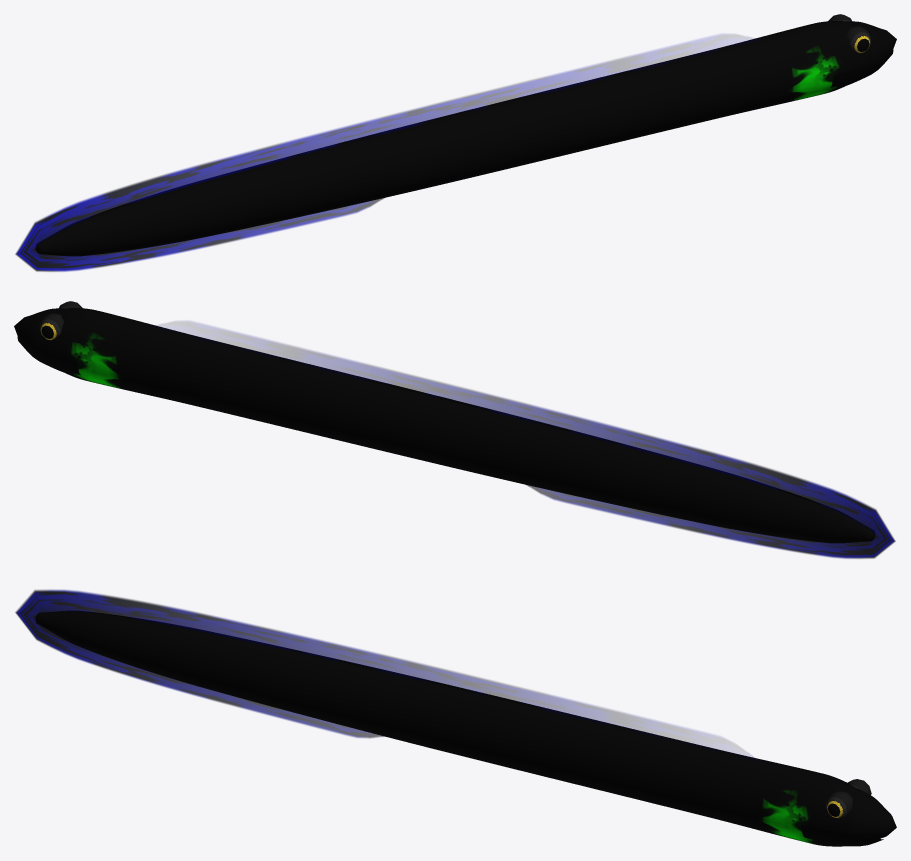
Rendered from eel.glb.
The picture shows the model from 3 angles, top to bottom: view 1: azimuth 30°, elevation 25°; view 2: azimuth 150°, elevation 25°; view 3: azimuth 330°, elevation 25°; orthographic projection.
Parts seen in each view (by area): view 1: Body, FinDorsal, JawLower; view 2: Body, FinDorsal, JawLower; view 3: Body, FinDorsal, JawLower, EyeR.
Boxes of the visible parts, bbox=[...] form: Body: bbox=[35, 21, 896, 256]; FinDorsal: bbox=[15, 34, 756, 271]; JawLower: bbox=[830, 50, 893, 87]; Body: bbox=[14, 308, 875, 543]; FinDorsal: bbox=[154, 321, 895, 558]; JawLower: bbox=[17, 337, 80, 374]; Body: bbox=[35, 611, 896, 846]; FinDorsal: bbox=[15, 589, 756, 759]; JawLower: bbox=[801, 824, 883, 846]; EyeR: bbox=[825, 791, 852, 818].
Bounding box in the file's own units: 1 × 0.1014 × 0.0639.
4 materials, 3 textured.
